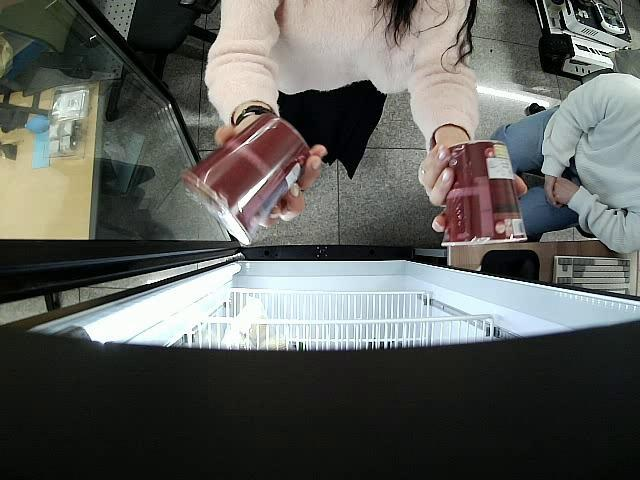06_nuguri_S: (182, 112, 312, 246), (441, 141, 528, 247)
